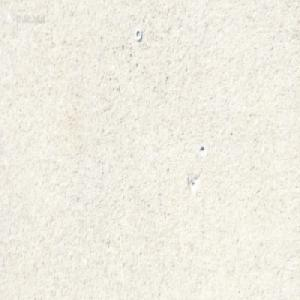Washer: (134, 28, 142, 41)
